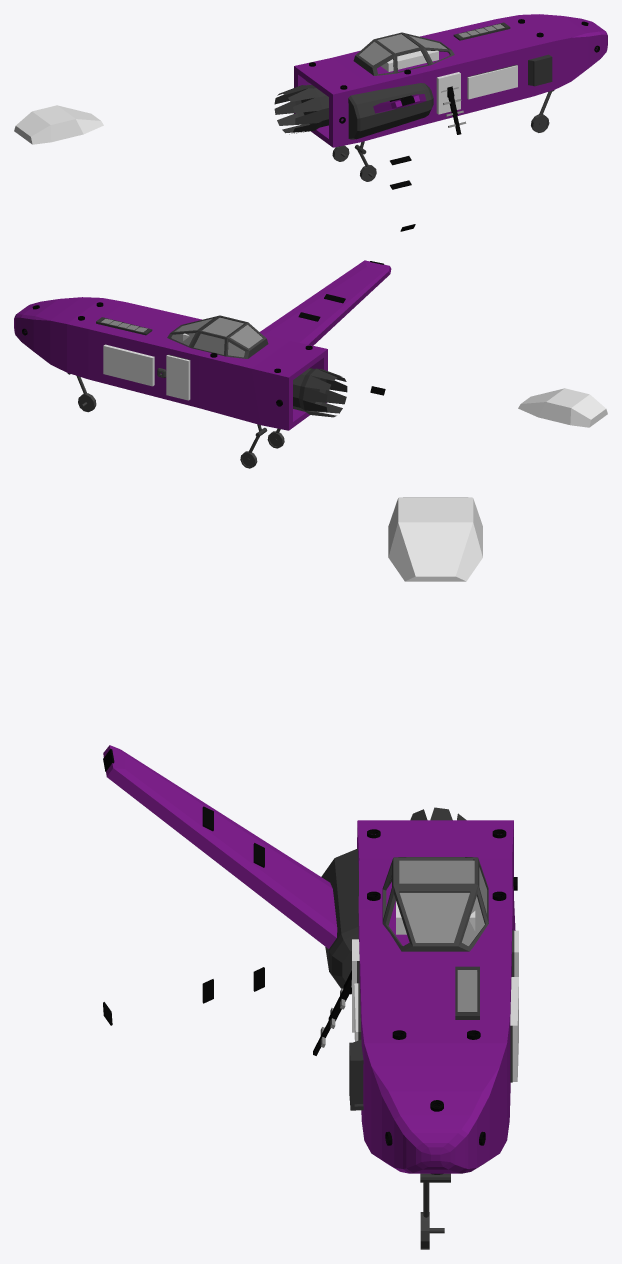
Rendered from FighterGen7_purple_closed.glb.
The picture shows the model from 3 angles, top to bottom: view 1: azimuth 30°, elevation 25°; view 2: azimuth 150°, elevation 25°; view 3: azimuth 270°, elevation 25°; orthographic projection. The views are drawn at different scales.
Visible parts, largest first — view 1: Body, Cylinder, Cube.100, Cylinder.002, Cube.099, Cube.021, Cube.080, Cube.043, Cube.090, Cube.104, Cube.106, Cube.003; view 2: Body, Cube.003, Cube.100, Cylinder.002, Cube.022, Cube.099, Cube.072, Cube.104, Cube.105, Cube.106; view 3: Body, Cube.003, Cube.100, Cube.099, Cylinder, Cube.102, Cube.104, Cube.043.
Boxes of the visible parts, bbox=[...] form: Body: bbox=[294, 14, 607, 147]; Cylinder: bbox=[348, 83, 433, 139]; Cube.100: bbox=[14, 105, 103, 144]; Cylinder.002: bbox=[274, 84, 328, 134]; Cube.099: bbox=[353, 32, 454, 75]; Cube.021: bbox=[467, 65, 517, 99]; Cube.080: bbox=[436, 72, 460, 114]; Cube.043: bbox=[528, 54, 552, 86]; Cube.090: bbox=[381, 50, 438, 71]; Cube.104: bbox=[377, 34, 418, 53]; Cube.106: bbox=[359, 41, 391, 65]; Cube.003: bbox=[373, 94, 426, 113]; Body: bbox=[14, 297, 327, 430]; Cube.003: bbox=[260, 260, 391, 345]; Cube.100: bbox=[518, 388, 607, 427]; Cylinder.002: bbox=[293, 368, 347, 417]; Cube.022: bbox=[103, 344, 154, 386]; Cube.099: bbox=[167, 315, 268, 358]; Cube.072: bbox=[166, 355, 190, 400]; Cube.104: bbox=[202, 317, 243, 336]; Cube.105: bbox=[193, 333, 224, 354]; Cube.106: bbox=[230, 324, 262, 348]; Body: bbox=[357, 820, 515, 1173]; Cube.003: bbox=[103, 745, 337, 948]; Cube.100: bbox=[388, 497, 482, 581]; Cube.099: bbox=[382, 857, 488, 951]; Cylinder: bbox=[321, 848, 358, 994]; Cube.102: bbox=[399, 892, 469, 942]; Cube.104: bbox=[399, 860, 474, 883]; Cube.043: bbox=[349, 1039, 363, 1110].
Size of the model in its own units: 33.95 by 7.98 by 10.52.
